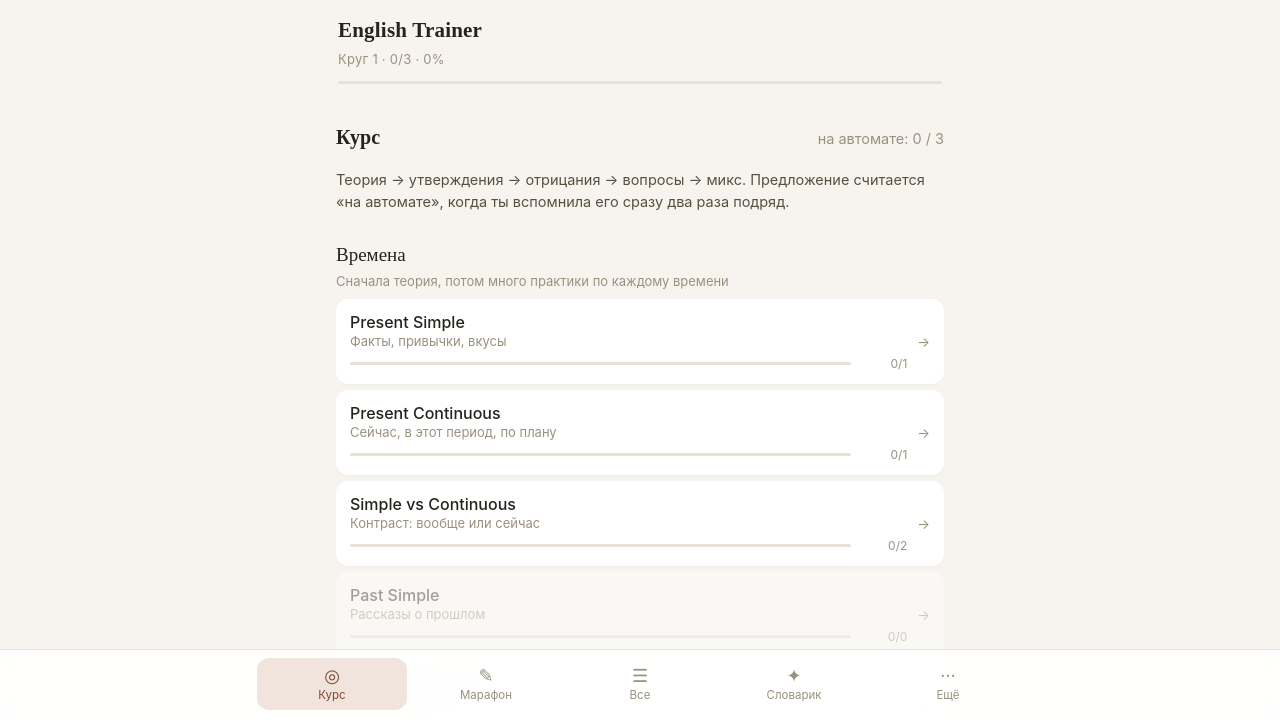
основные сценарии UI › «Показать перевод» показывает English и альтернативы, но не меняет completedIds
This screenshot has width=1280, height=720.
Click the button "✎ Марафон": (486, 684) [411,658,561,710]
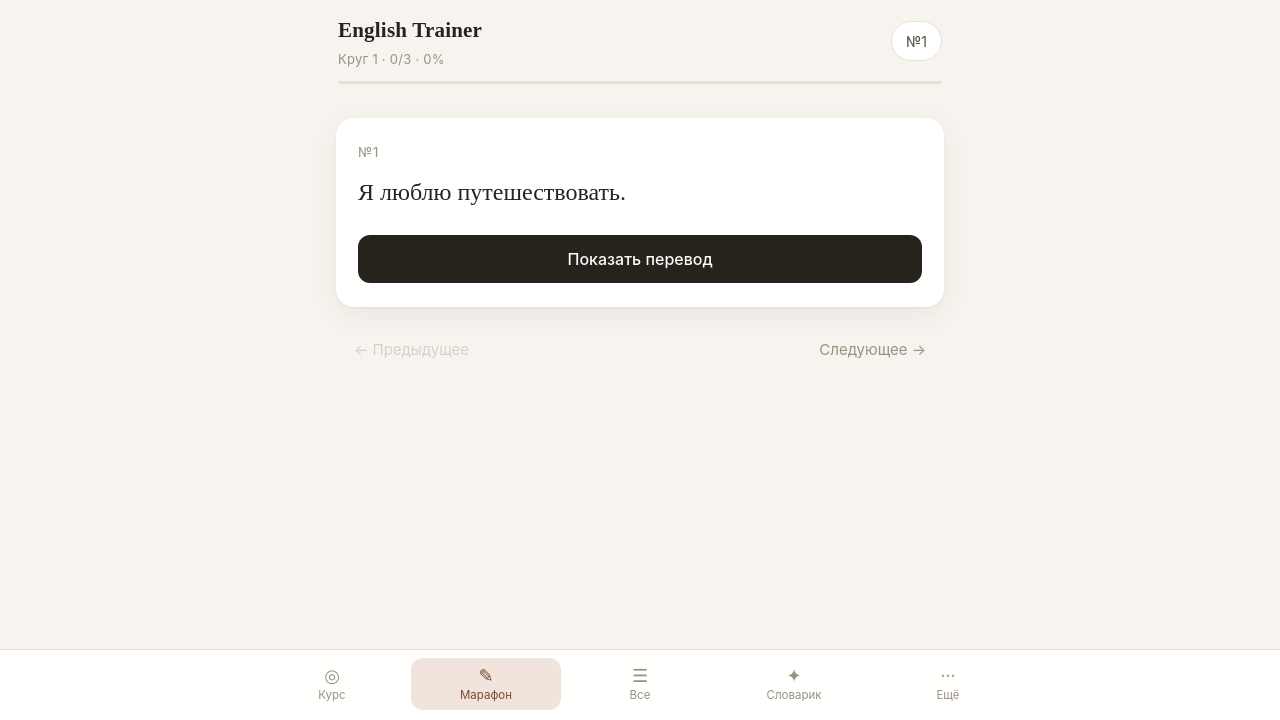
Expected: the text "traveling." is not shown
Click the button "Показать перевод": (640, 259) [358,235,922,283]
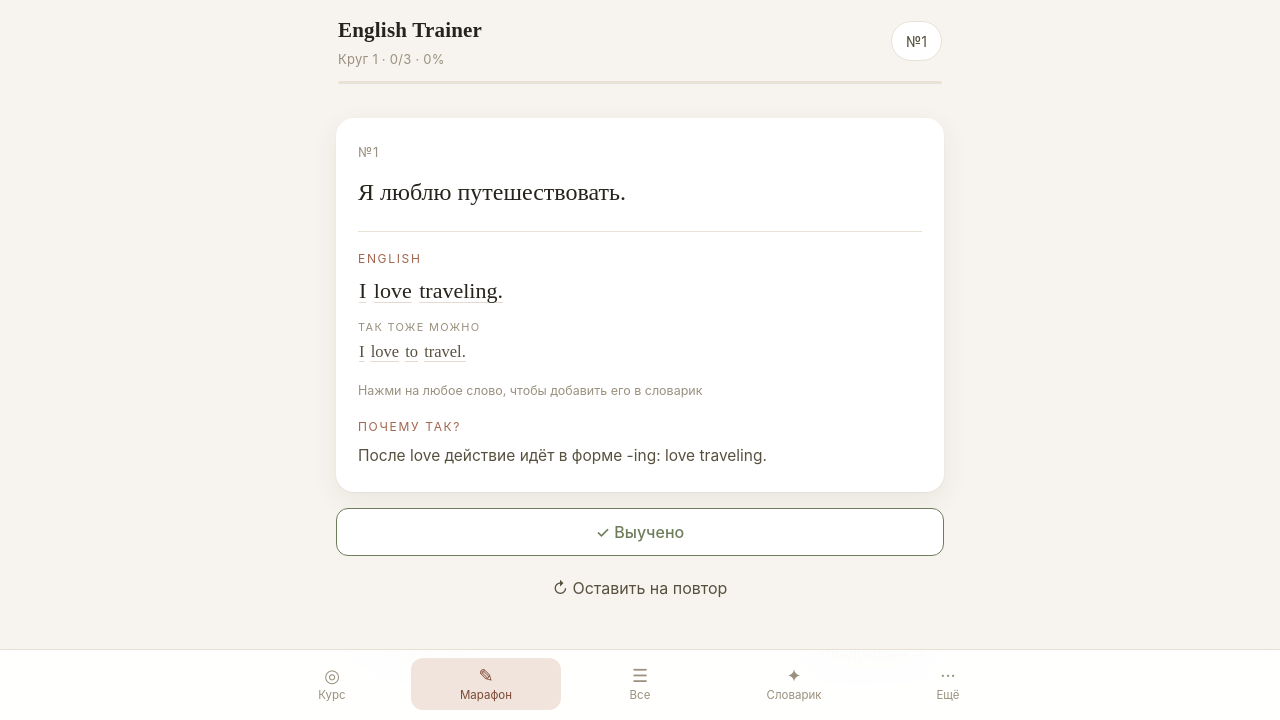
Result: the button "traveling." is shown at [418,275,504,307]
Result: the text "Так тоже можно" is shown at [358,320,480,334]
Result: the button "travel." is shown at [423,340,467,365]
